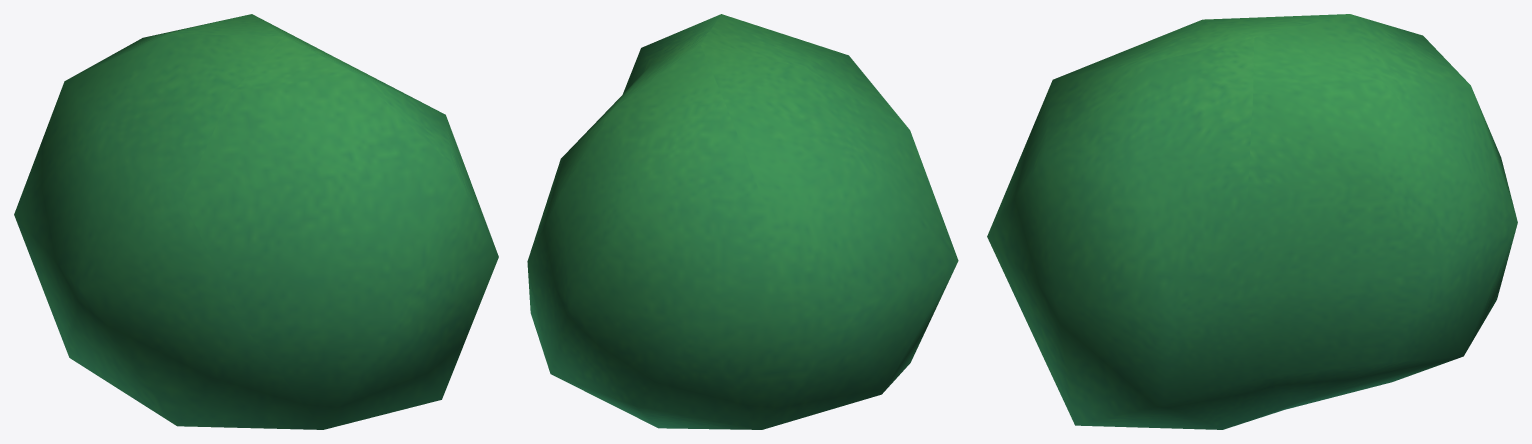
The model's file is Bush_4.glb.
The picture shows the model from 3 angles, left to right: view 1: azimuth 30°, elevation 25°; view 2: azimuth 150°, elevation 25°; view 3: azimuth 270°, elevation 25°; orthographic projection. The views are drawn at different scales.
Parts seen in each view (by area): view 1: Icosphere.036; view 2: Icosphere.036; view 3: Icosphere.036.
Part boxes in pixels (x1,y1,x2,y2): Icosphere.036: (14,14,498,429); Icosphere.036: (527,14,958,429); Icosphere.036: (987,14,1517,429).
Size of the model in its own units: 1.17 by 1.03 by 1.33.
Materials: 1 (1 with a texture image).
